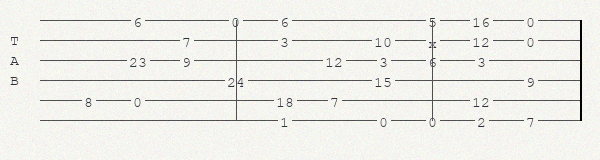0: (133, 94, 146, 107), (231, 14, 244, 27), (379, 114, 392, 127), (428, 114, 441, 127), (526, 14, 539, 27), (526, 34, 539, 47)
1: (280, 114, 293, 127)
10: (374, 34, 396, 47)
12: (325, 54, 347, 67), (472, 94, 494, 107), (472, 34, 494, 47)
15: (374, 74, 396, 87)
16: (472, 14, 494, 27)
18: (276, 94, 298, 107)
2: (477, 114, 490, 127)
23: (129, 54, 151, 67)
24: (227, 74, 249, 87)
3: (280, 34, 293, 47), (379, 54, 392, 67), (477, 54, 490, 67)
5: (428, 14, 441, 27)
6: (133, 14, 146, 27), (280, 14, 293, 27), (428, 54, 441, 67)
7: (182, 34, 195, 47), (330, 94, 343, 107), (526, 114, 539, 127)
8: (84, 94, 97, 107)
9: (182, 54, 195, 67), (526, 74, 539, 87)
x: (428, 35, 441, 45)
